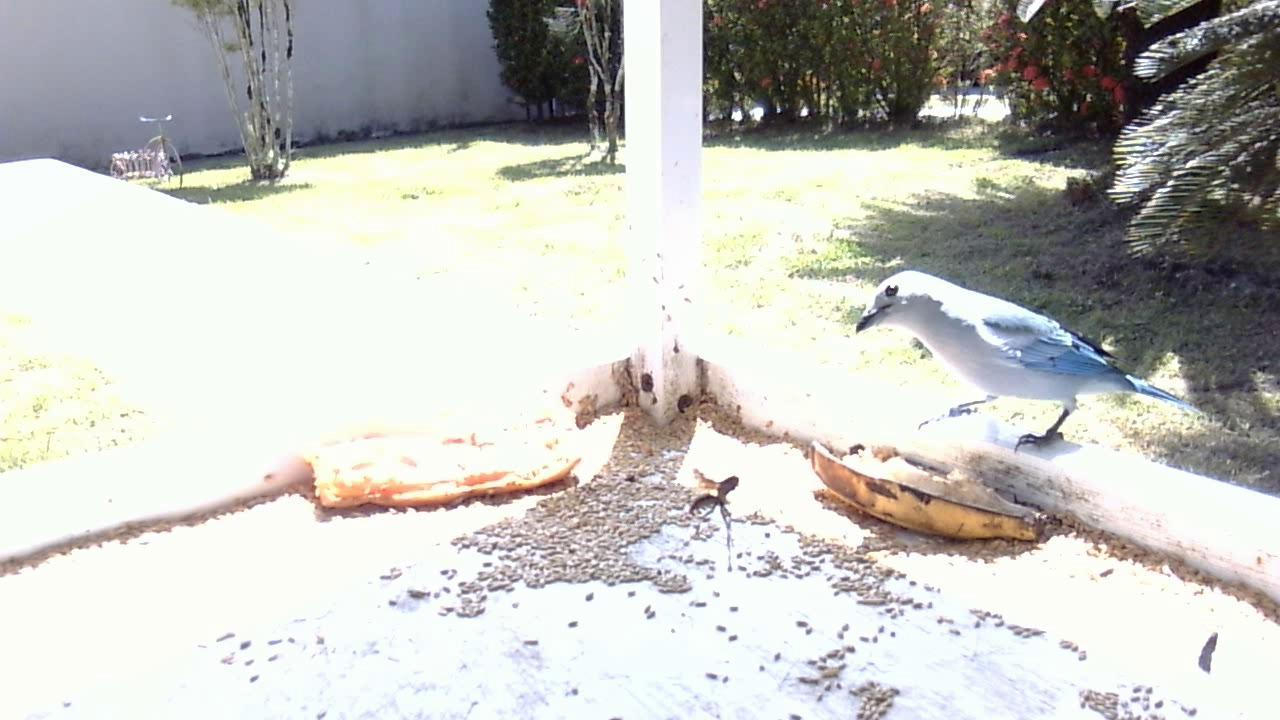sanhaco_da_amazonia: (852, 261, 1201, 461)
